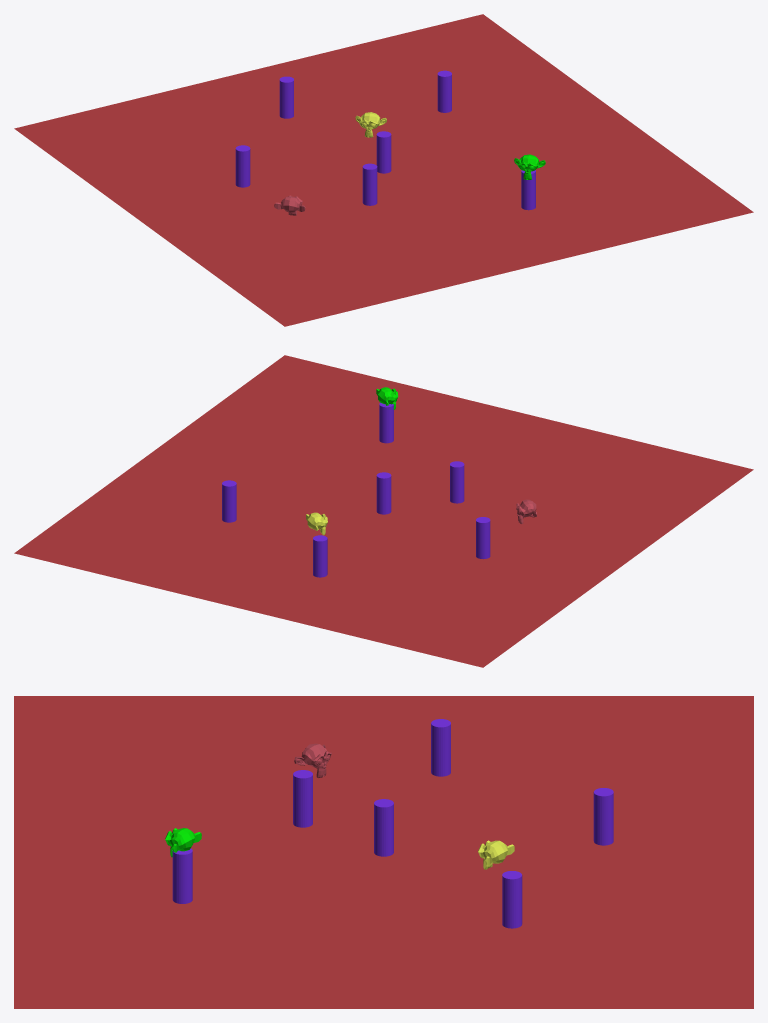
3 views of the same model, one above another, from view 1: azimuth 30°, elevation 25°; view 2: azimuth 150°, elevation 25°; view 3: azimuth 270°, elevation 25° (orthographic). The views are drawn at different scales.
Visible parts, largest first — view 1: Plane, Cylinder; view 2: Plane, Cylinder; view 3: Plane, Cylinder, Suzanne.002, Suzanne, Suzanne.001.
Boxes of the visible parts, x1,y1,x2,y2 form: Plane: (14, 14, 753, 326); Cylinder: (235, 70, 535, 210); Plane: (14, 355, 753, 667); Cylinder: (222, 402, 490, 577); Plane: (14, 696, 753, 1008); Cylinder: (172, 719, 613, 928); Suzanne.002: (294, 743, 331, 777); Suzanne: (478, 840, 514, 869); Suzanne.001: (165, 828, 201, 857).
Size of the model in its own units: 45.74 by 5.07 by 45.74.
